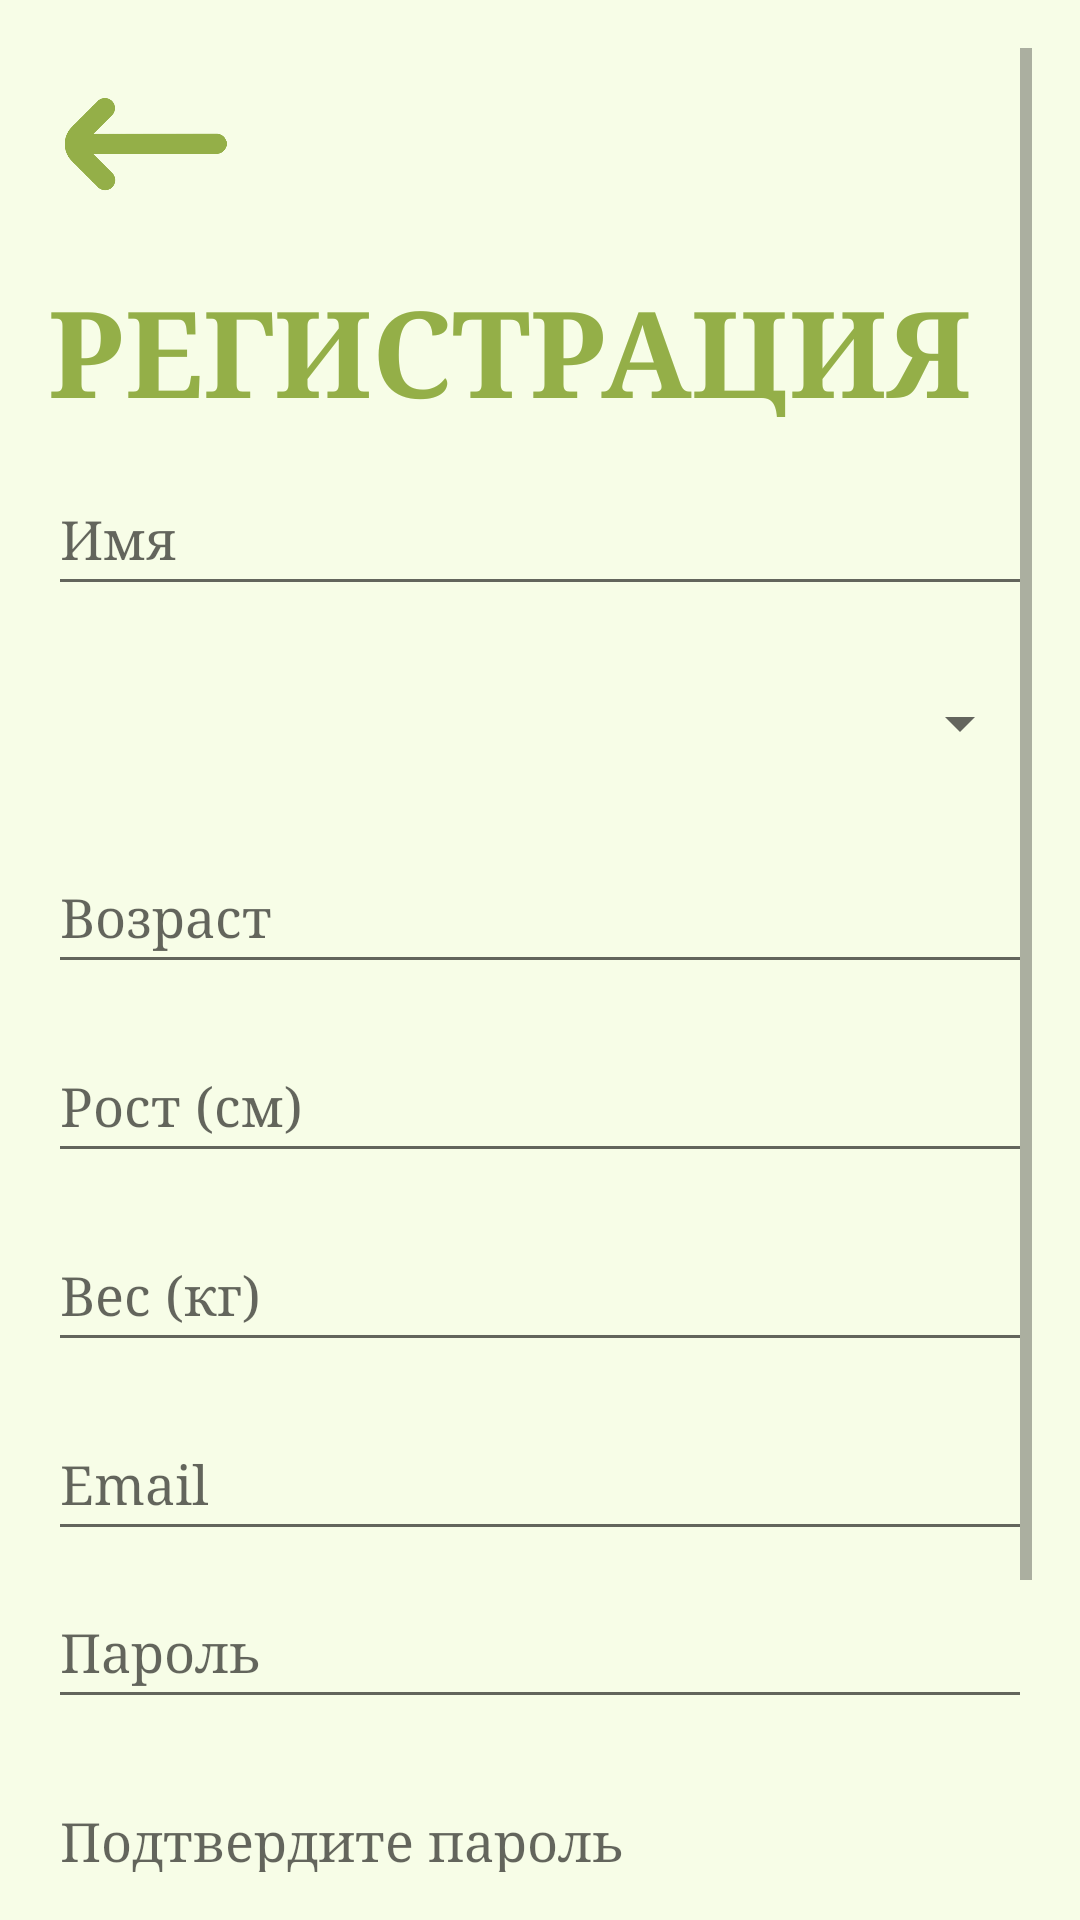

Point at icon controls on the screen. Image size 1080px x 1920px, points as point (x, y).
Назад: point (146, 144)
